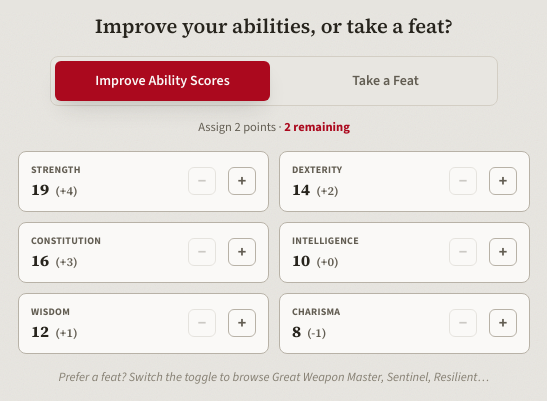
Test: AbilityScoreStep — ASI branch › stages a +2 takeAsi op and shows 0 remaining after two points
Click the button named "increase constitution".
click(242, 252)  # box [228,238,256,266]
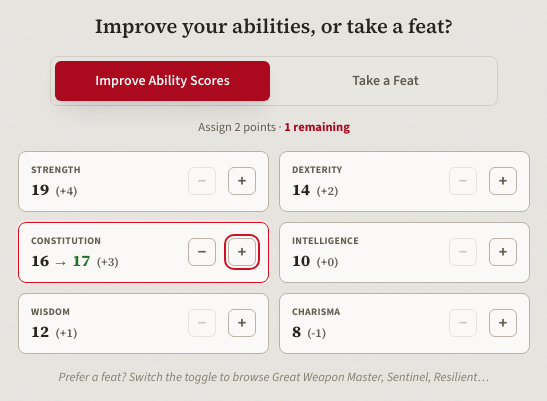
Click the button named "increase constitution".
click(242, 252)  # box [228,238,256,266]
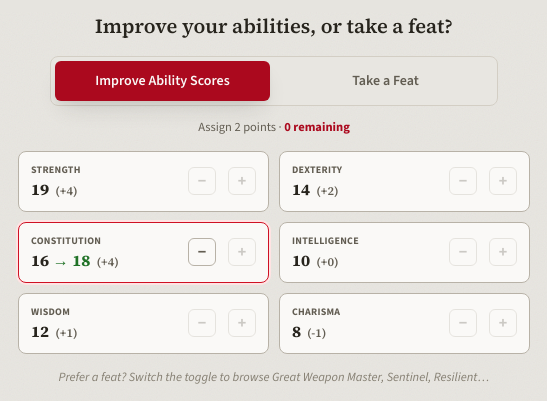
Expected: the text "0 remaining" is shown, [284,118,350,135]
